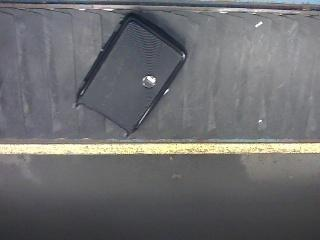Suitcase: (77, 14, 186, 134)
